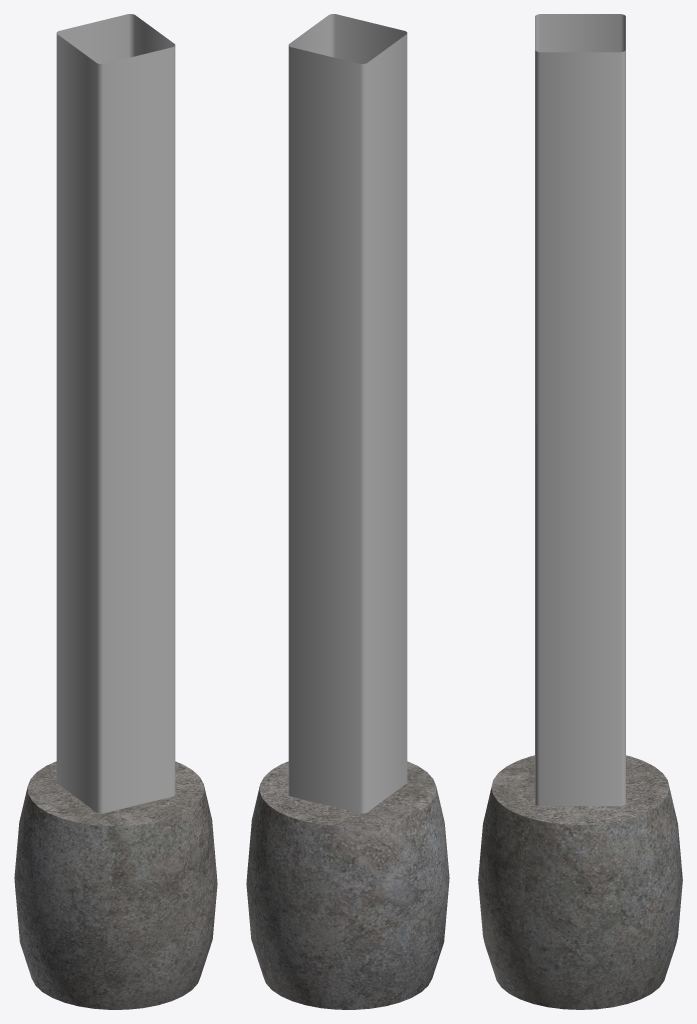
File: SM_Pillar_15.FBX
3 renders of one model, left to right at view 1: azimuth 30°, elevation 25°; view 2: azimuth 150°, elevation 25°; view 3: azimuth 270°, elevation 25°, orthographic.
Parts seen in each view (by area): view 1: SM_Pillar_15; view 2: SM_Pillar_15; view 3: SM_Pillar_15.
Part boxes in pixels (x1,y1,x2,y2): SM_Pillar_15: (14, 14, 217, 1009); SM_Pillar_15: (246, 14, 449, 1009); SM_Pillar_15: (478, 14, 682, 1009).
Bounding box in the file's own units: 66.11 × 335 × 66.11.
